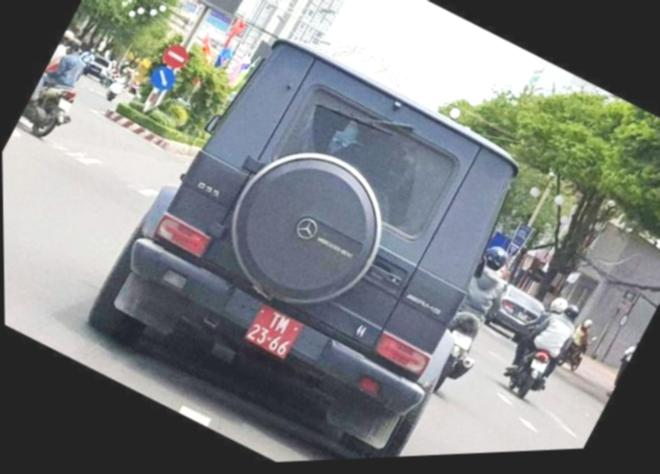License_Plate: (243, 306, 308, 361)
